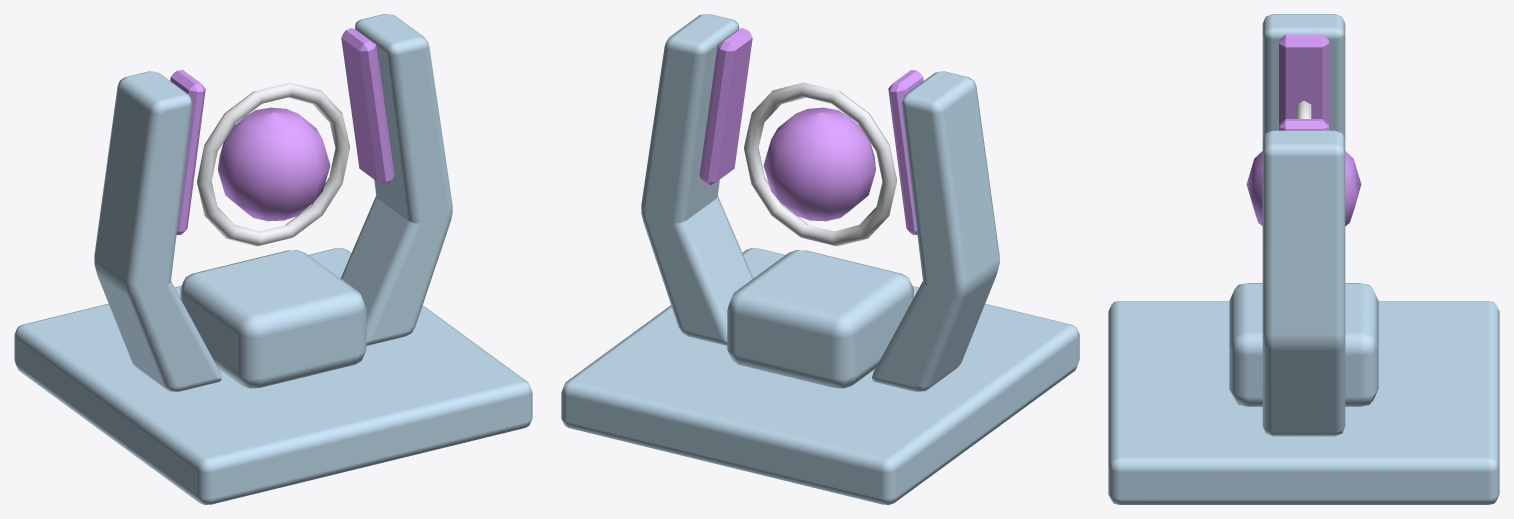
The model's file is R4X_Blink.glb.
The picture shows the model from 3 angles, left to right: view 1: azimuth 30°, elevation 25°; view 2: azimuth 150°, elevation 25°; view 3: azimuth 270°, elevation 25°; orthographic projection.
Visible parts, largest first — view 1: R4X_Blink_Body; view 2: R4X_Blink_Body; view 3: R4X_Blink_Body.
Part boxes in pixels (box(x1,y1,x2,y2)): R4X_Blink_Body: box(14, 14, 532, 504); R4X_Blink_Body: box(561, 14, 1079, 504); R4X_Blink_Body: box(1108, 14, 1499, 504).
Bounding box in the file's own units: 0.52 × 0.5114 × 0.52.
